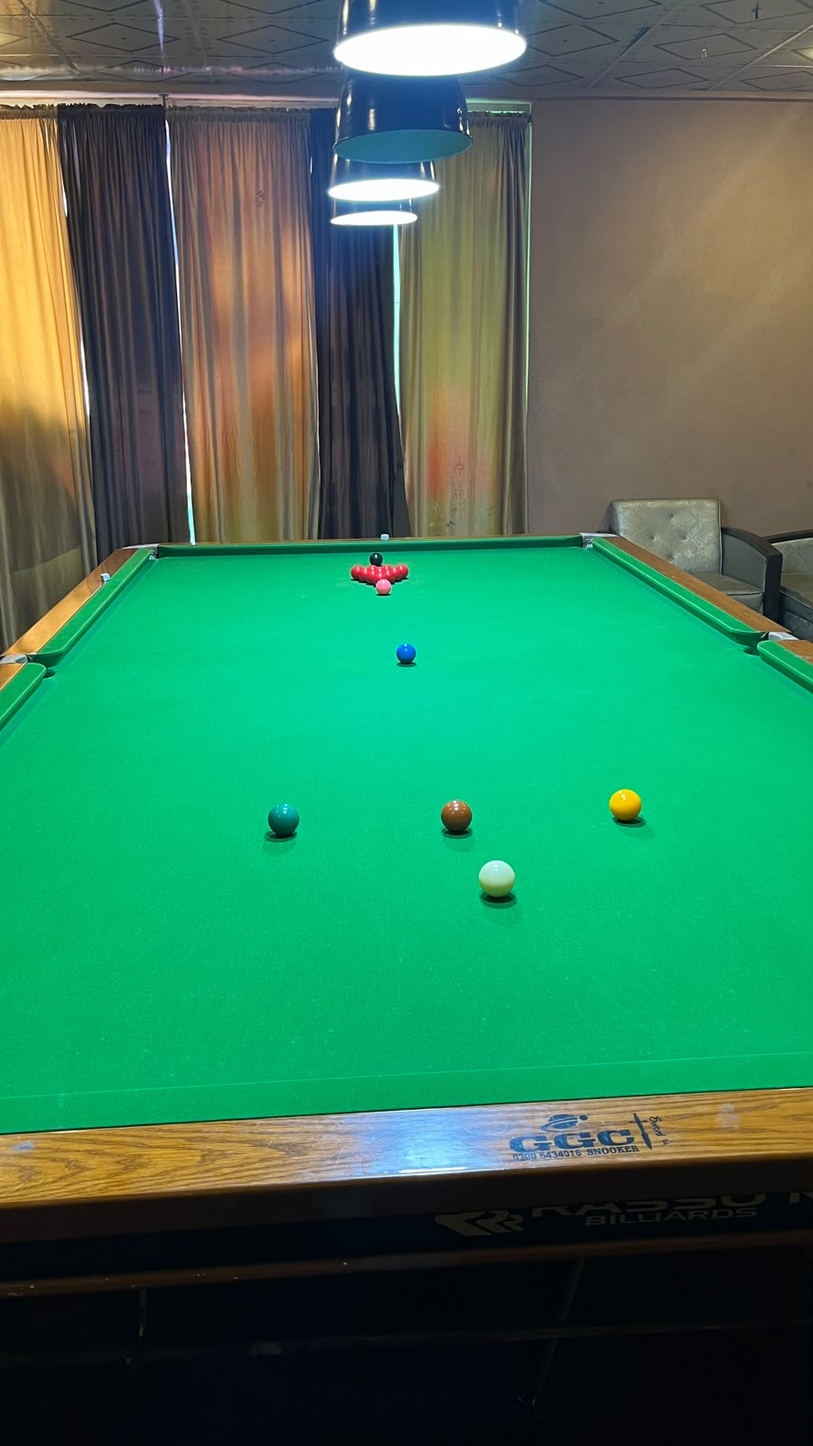Snooker: (350, 564, 409, 583)
